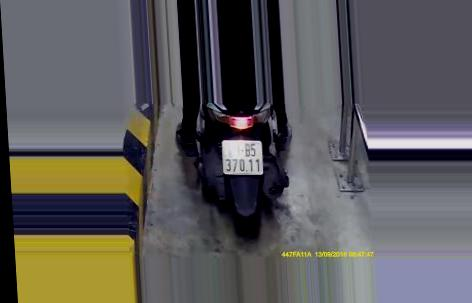License_Plate: (215, 138, 265, 176)
